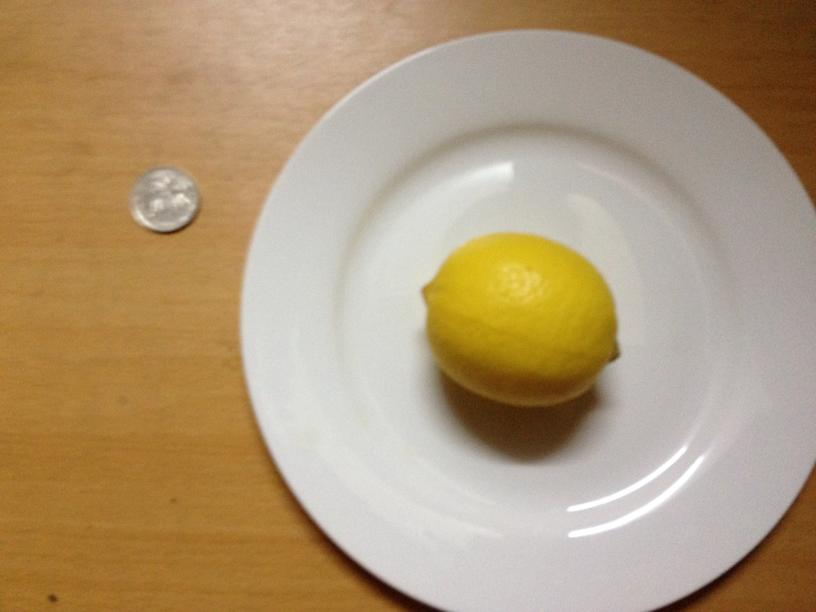coin: (127, 165, 203, 234)
lemon: (430, 235, 619, 410)
